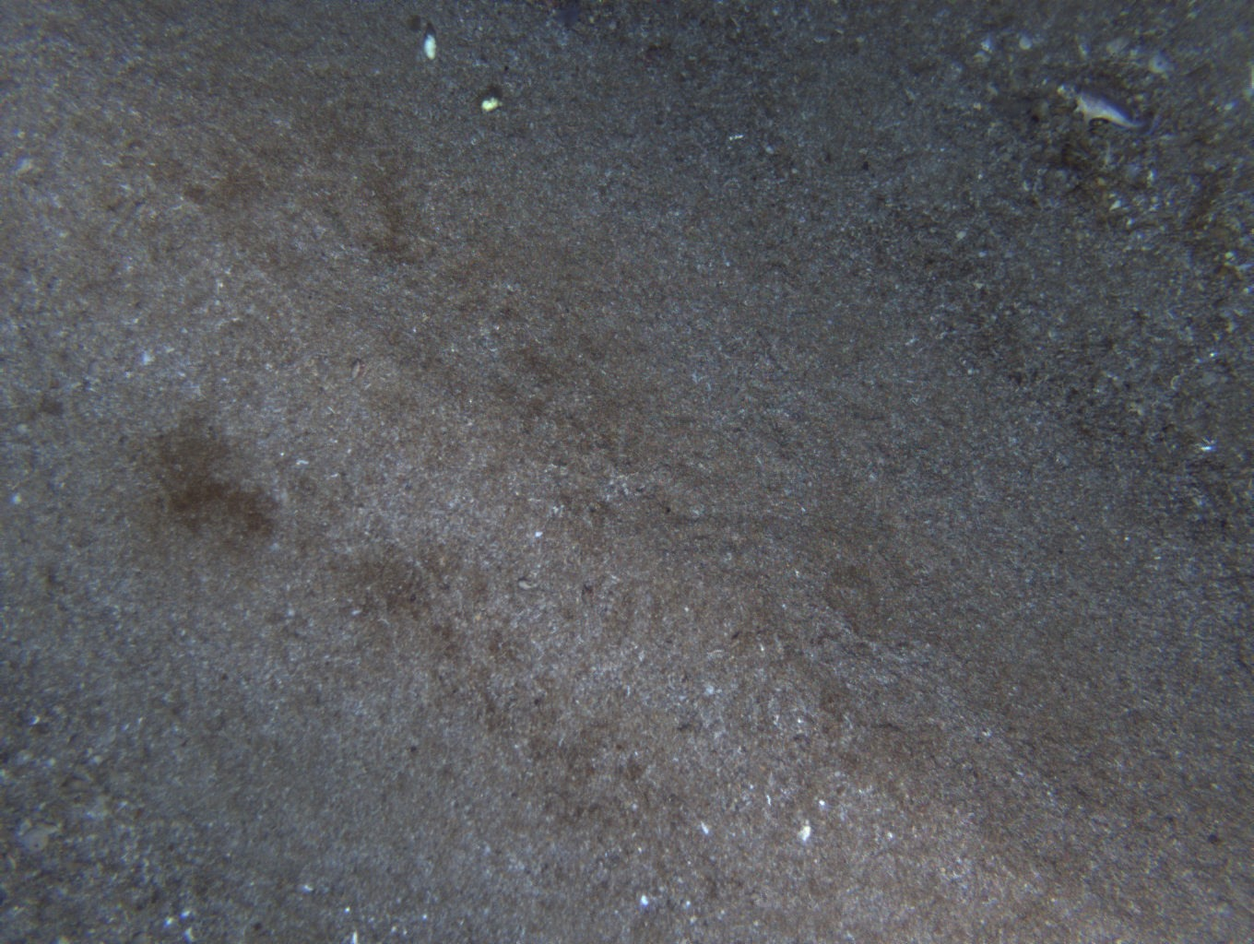Brachionichthyidae: (1071, 87, 1149, 136)
